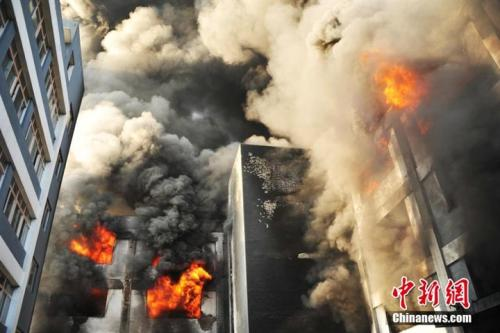fire: (136, 255, 219, 322)
fire1: (365, 56, 447, 129)
fire2: (64, 228, 119, 277)
smoke: (95, 13, 226, 211)
smoke1: (255, 7, 361, 141)
